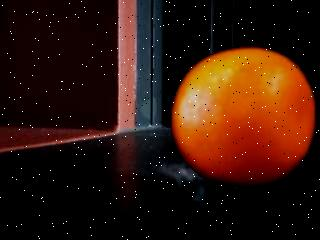Orange: (171, 46, 317, 188)
